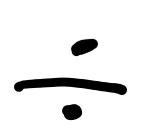div: (14, 39, 127, 120)
